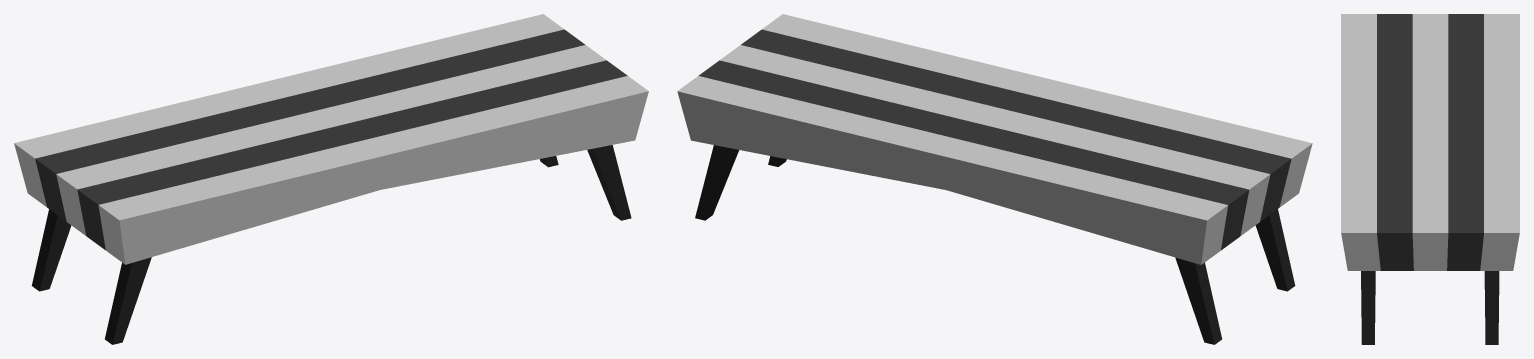
File: ctable-1.glb
3 renders of one model, left to right at view 1: azimuth 30°, elevation 25°; view 2: azimuth 150°, elevation 25°; view 3: azimuth 270°, elevation 25°, orthographic. The views are drawn at different scales.
Visible parts, largest first — view 1: CTable_1; view 2: CTable_1; view 3: CTable_1.
Boxes of the visible parts, x1,y1,x2,y2 form: CTable_1: [14, 14, 648, 344]; CTable_1: [677, 14, 1312, 344]; CTable_1: [1341, 14, 1519, 344].
Bounding box in the file's own units: 217 × 52.86 × 75.
Materials: 1 (1 with a texture image).
